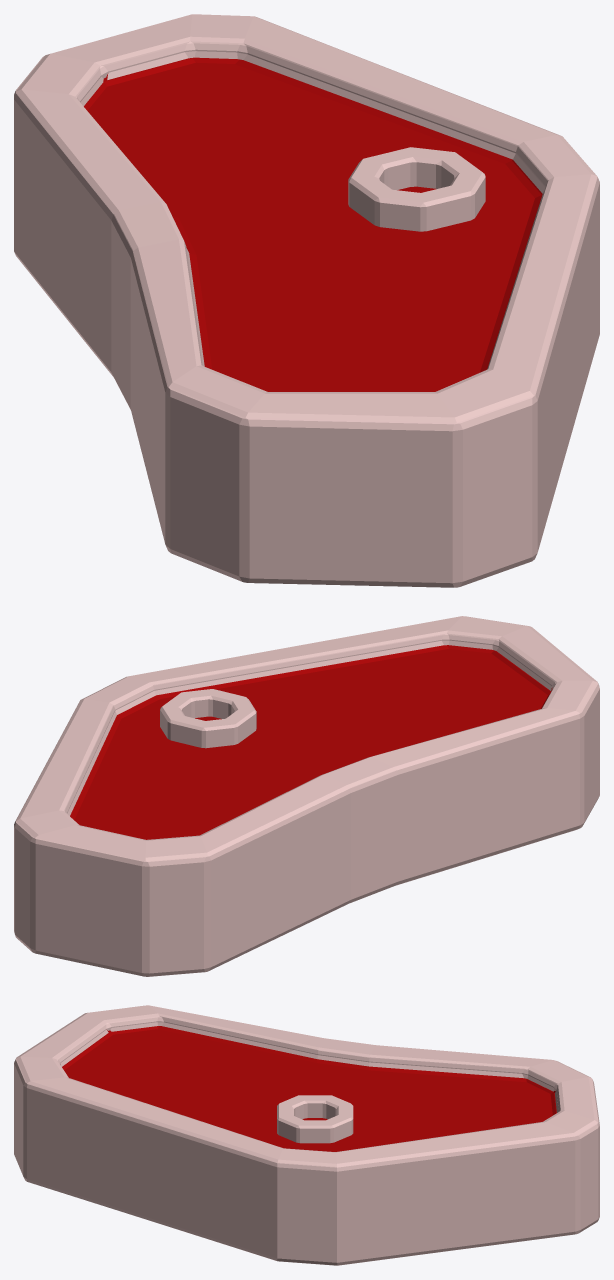
The model's file is Steak.fbx.
The picture shows the model from 3 angles, top to bottom: view 1: azimuth 30°, elevation 25°; view 2: azimuth 150°, elevation 25°; view 3: azimuth 270°, elevation 25°; orthographic projection. The views are drawn at different scales.
Visible parts, largest first — view 1: SteakHole.003; view 2: SteakHole.003; view 3: SteakHole.003.
Part boxes in pixels (x1,y1,x2,y2): SteakHole.003: (14, 14, 599, 587); SteakHole.003: (14, 616, 599, 976); SteakHole.003: (14, 1005, 599, 1265).
Bounding box in the file's own units: 61.47 × 19.14 × 93.34.
